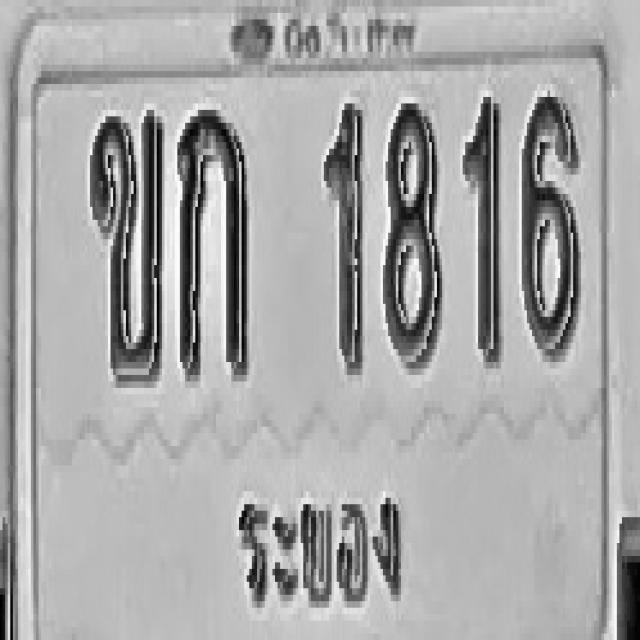1: (322, 97, 363, 375), (463, 94, 501, 365)
10GorGai: (176, 104, 248, 382)
11KhorKhai: (90, 104, 164, 382)
6: (522, 90, 578, 356)
8: (383, 97, 442, 368)
Rayong: (229, 472, 412, 632)
